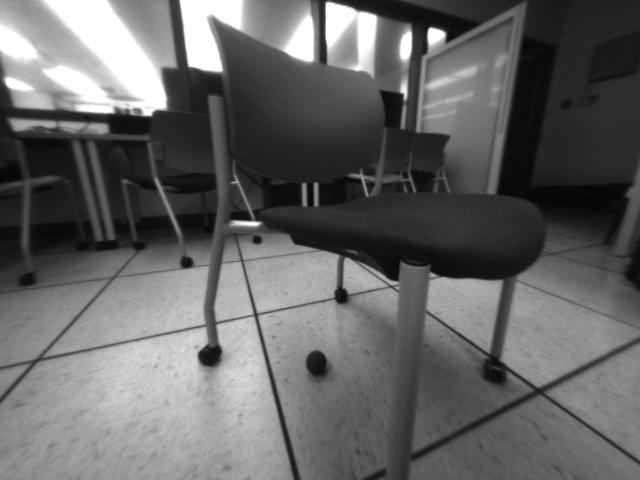dogtoy: (299, 342, 339, 383)
